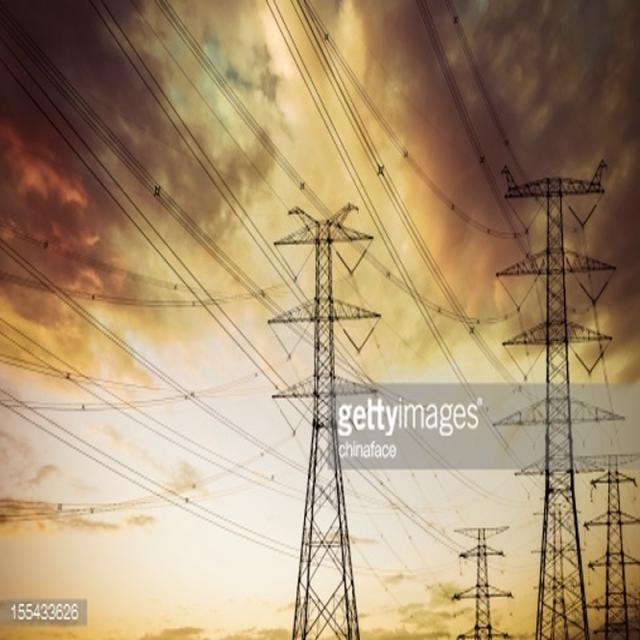non-critical vegetation: (480, 162, 614, 636), (262, 178, 380, 636), (452, 504, 528, 636), (586, 454, 636, 636)
